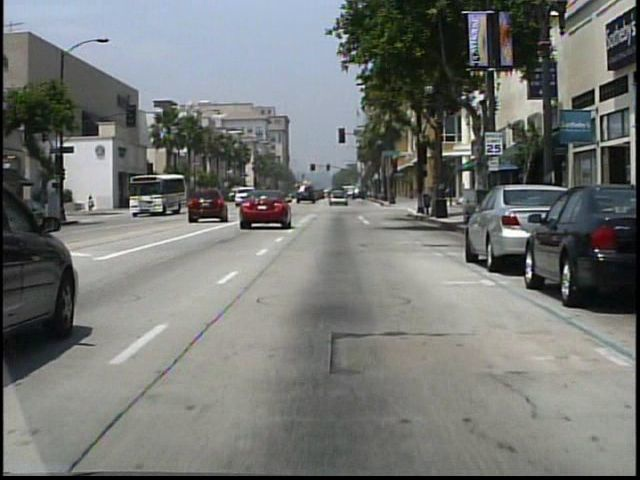person: (89, 195, 96, 215)
